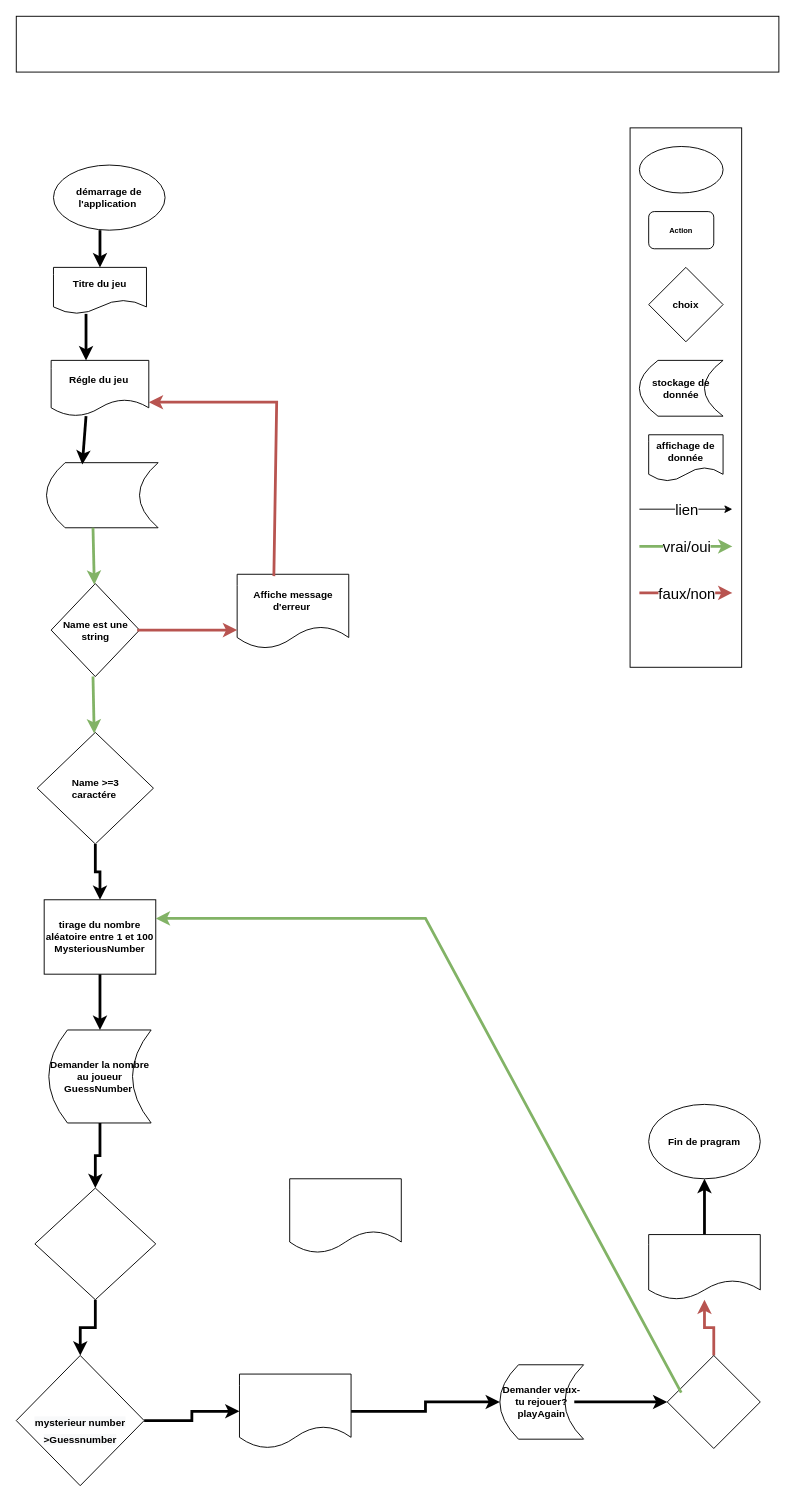
The diagram is 795 pixels wide and 1502 high, and some of its shapes have lost their labels. Here are the shapes that lost their labels. From the top down, the box of each, then its label:
(15, 15, 779, 72): Diagramme de flux nombre mystérieux
(638, 146, 723, 193): début/fin
(46, 462, 158, 528): Demande le nom de joueur Name
(289, 1178, 401, 1253): Afficher message "le nombre mystérieux est plus grand
(34, 1187, 156, 1300): mysterieur number <Guessnumber
(648, 1234, 760, 1300): Afficher le message "Au revoir"
(239, 1373, 351, 1448): Afficher message "bravo tu as gagné en rounds coups"
(666, 1355, 760, 1448): playAgain
